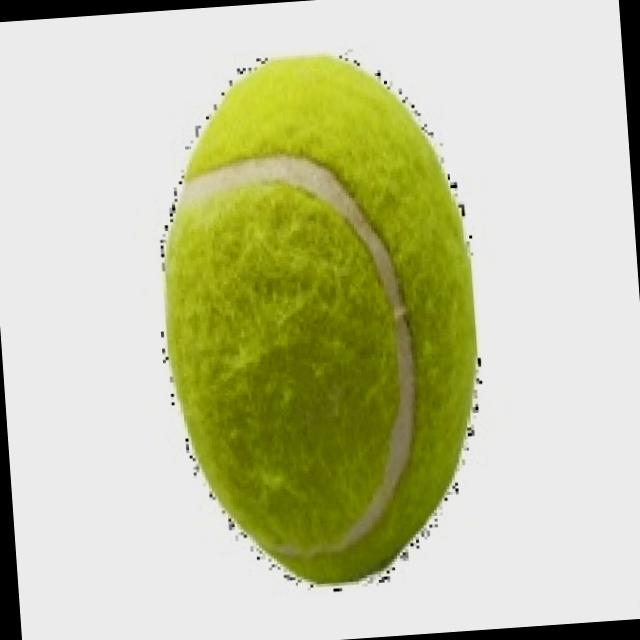Tennis Ball: (161, 53, 480, 587)
